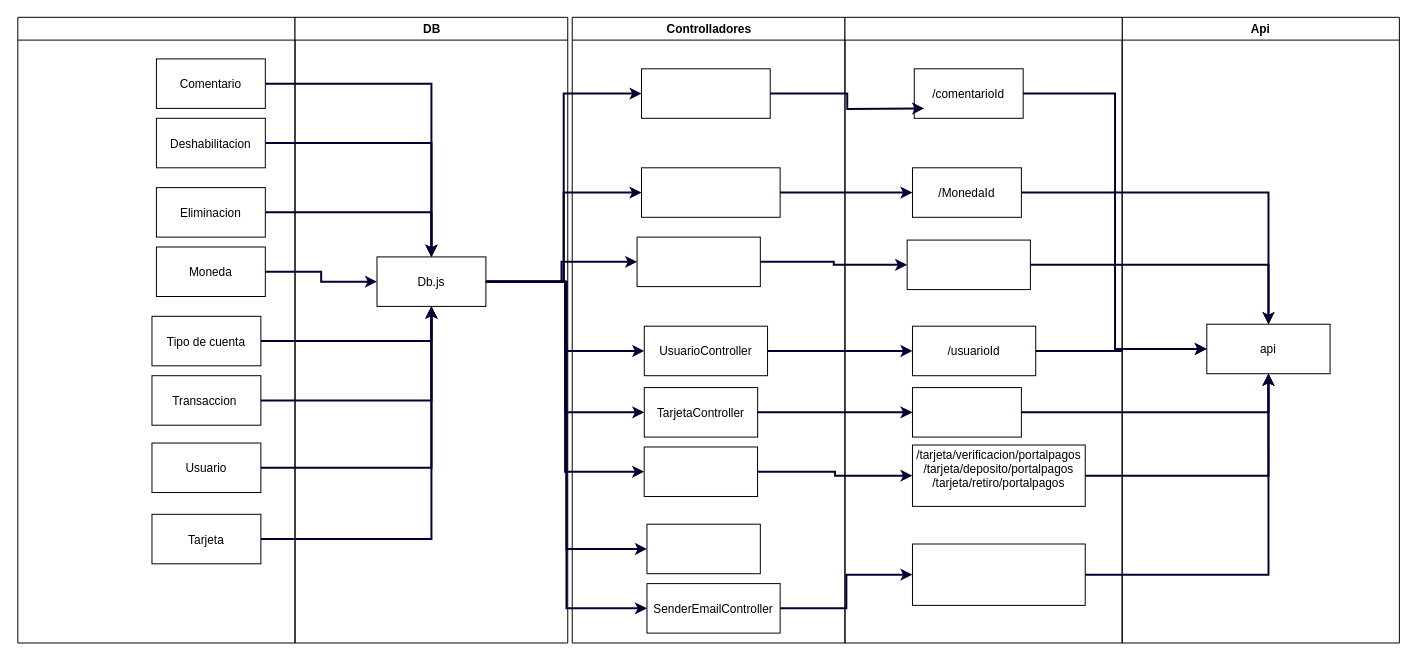
This 1417x660 diagram has some shape labels left out. The shapes that lost their labels are listed below. From the top down, each one's box as (x1, y1, x2, y2) in pixels, then its label:
(641, 68, 770, 118): ComentarioController
(641, 167, 780, 217): MonedaController
(636, 236, 760, 287): TipoCuentaController
(906, 239, 1030, 290): /TipoCuentaId
(17, 16, 295, 643): Modelos
(844, 16, 1122, 643): Rutas
(911, 387, 1021, 437): /tarjetaId
(643, 446, 758, 496): PortalController
(646, 523, 760, 574): UtilidadesCotroller
(911, 543, 1085, 605): /send_pin
